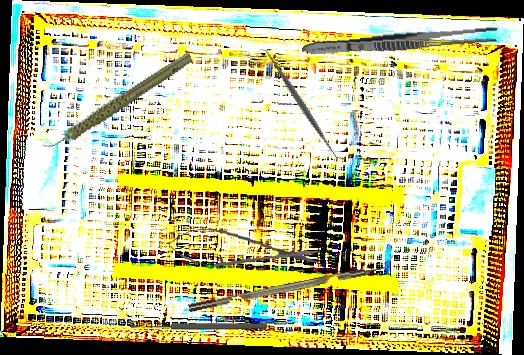Chopper: (186, 254, 396, 312)
Dressing Forceps: (301, 23, 500, 60)
Handpiece: (29, 50, 205, 152)
Micro Scissor: (165, 224, 322, 277)
Spatula Surgical: (257, 41, 347, 168)
Surgical Spoon: (131, 322, 266, 330)
